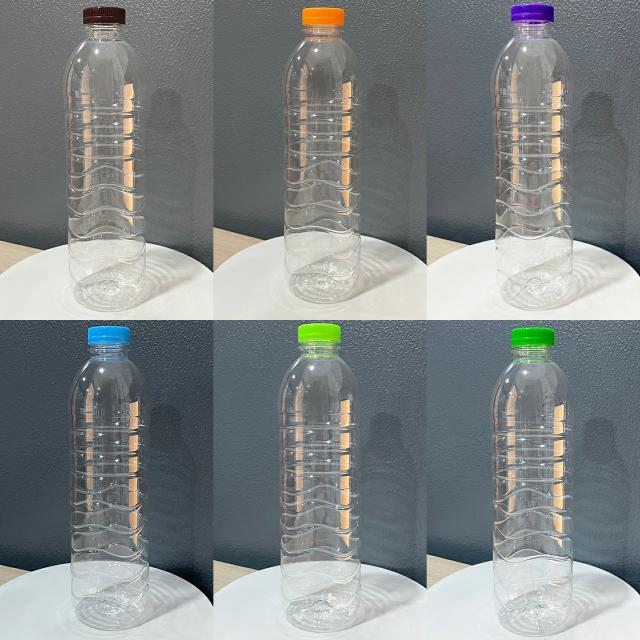plastik: (491, 5, 578, 310), (278, 323, 361, 631), (491, 328, 574, 635), (64, 6, 145, 310), (69, 327, 150, 630), (284, 8, 362, 303)
